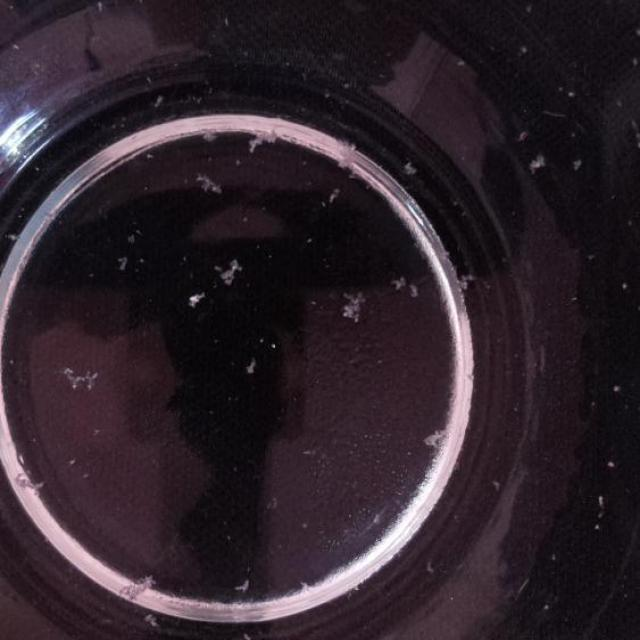fiber: (119, 561, 155, 603), (192, 168, 230, 200), (217, 248, 246, 288), (14, 467, 47, 501), (423, 420, 451, 458), (251, 122, 278, 156), (63, 362, 95, 387), (397, 271, 420, 299), (342, 284, 362, 316), (590, 496, 612, 524), (454, 269, 475, 298), (185, 278, 207, 305), (401, 153, 418, 183), (232, 574, 253, 595), (532, 151, 547, 176), (111, 257, 134, 273), (247, 356, 258, 372)
